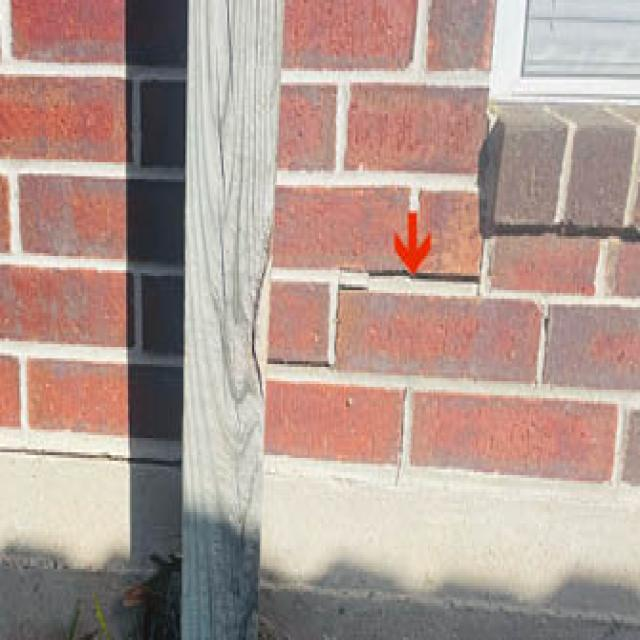Crack: (264, 225, 482, 367)
